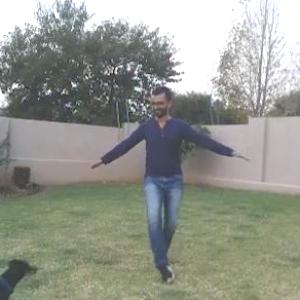land: (87, 63, 299, 299)
